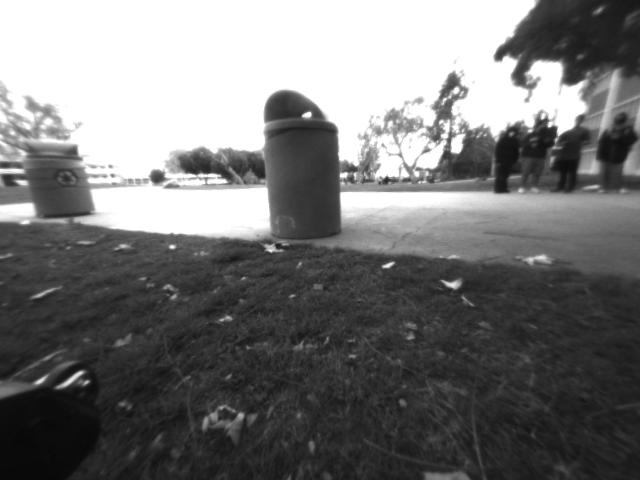trashcan: (258, 82, 350, 246)
